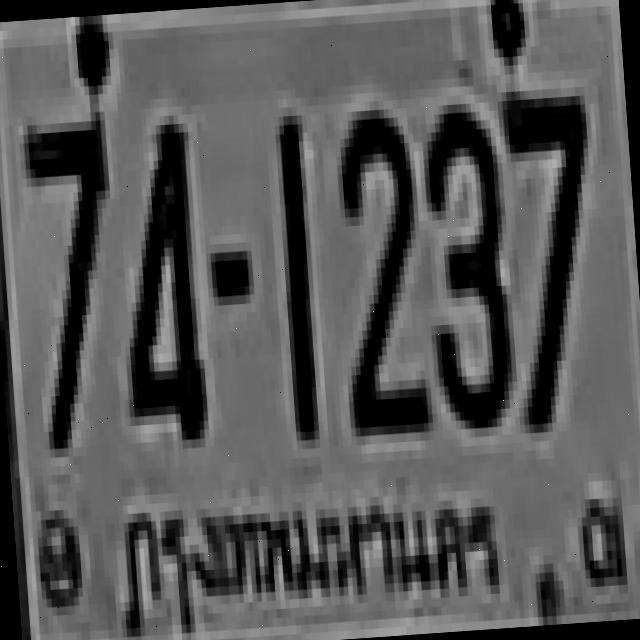1: (268, 110, 318, 437)
2: (330, 99, 425, 428)
3: (415, 93, 510, 422)
4: (109, 114, 204, 443)
7: (496, 87, 602, 425), (17, 112, 122, 440)
Bangkok: (112, 473, 516, 635)
